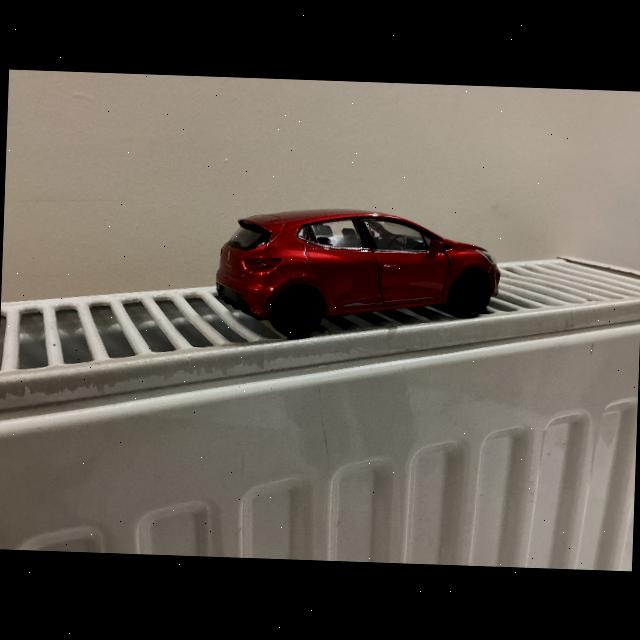Dogru_Jant: (274, 286, 323, 338), (458, 276, 488, 312)
